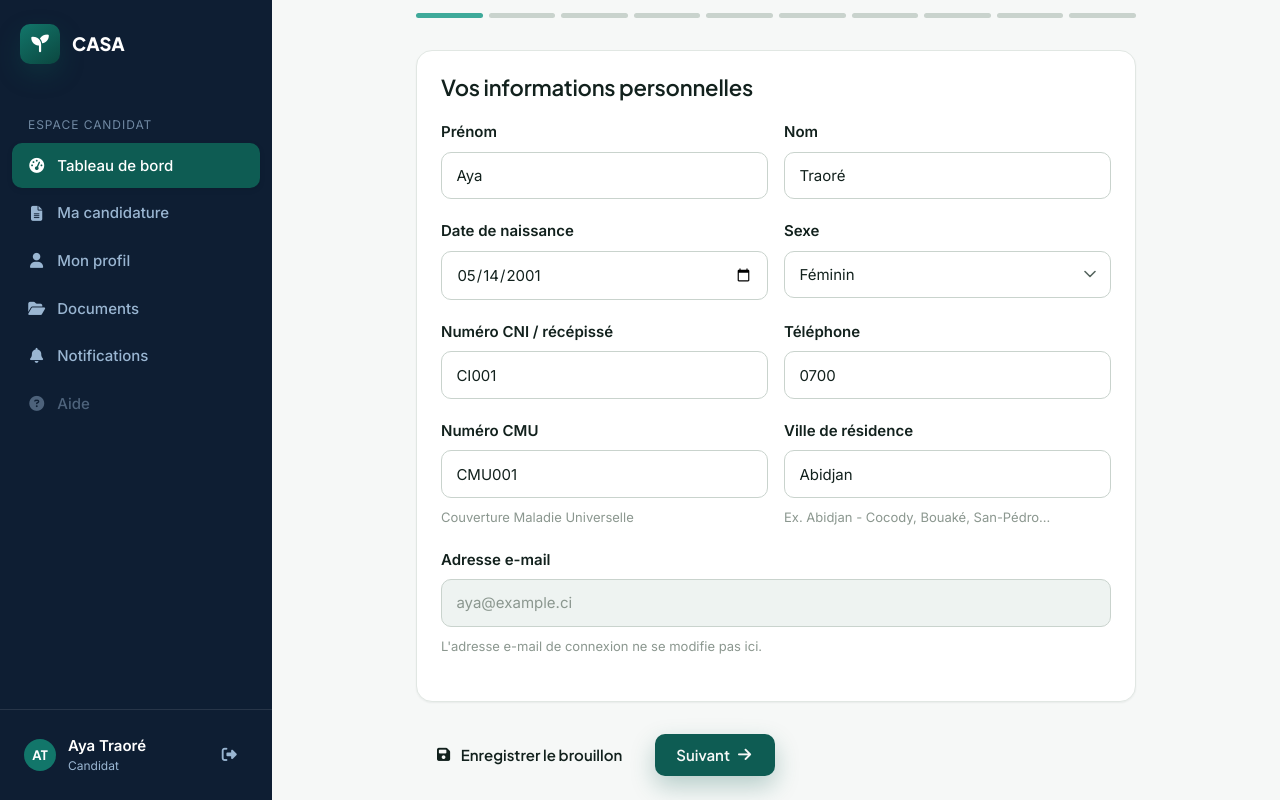
Test case: CandidatureWizard › reprise : une candidature brouillon existante est ré-hydratée
(page scrolled)
Check: the heading "Vos informations personnelles" is shown, box [441,73,753,101]
Click the button "Suivant": (715, 755) [655,734,775,776]
(page scrolled)
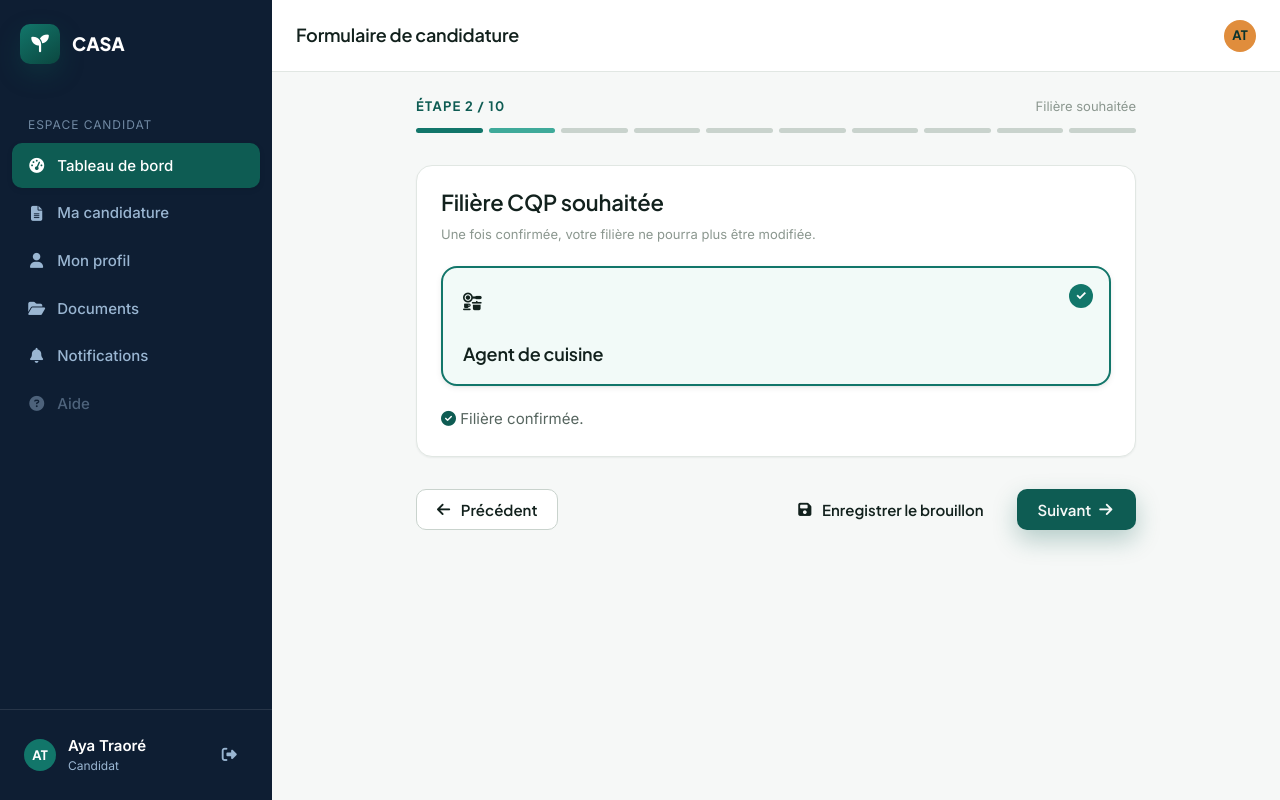
Check: the text "Étape 2 / 10" is shown, box [416,96,505,116]
Click the button "Suivant": (1076, 510) [1017,489,1136,530]
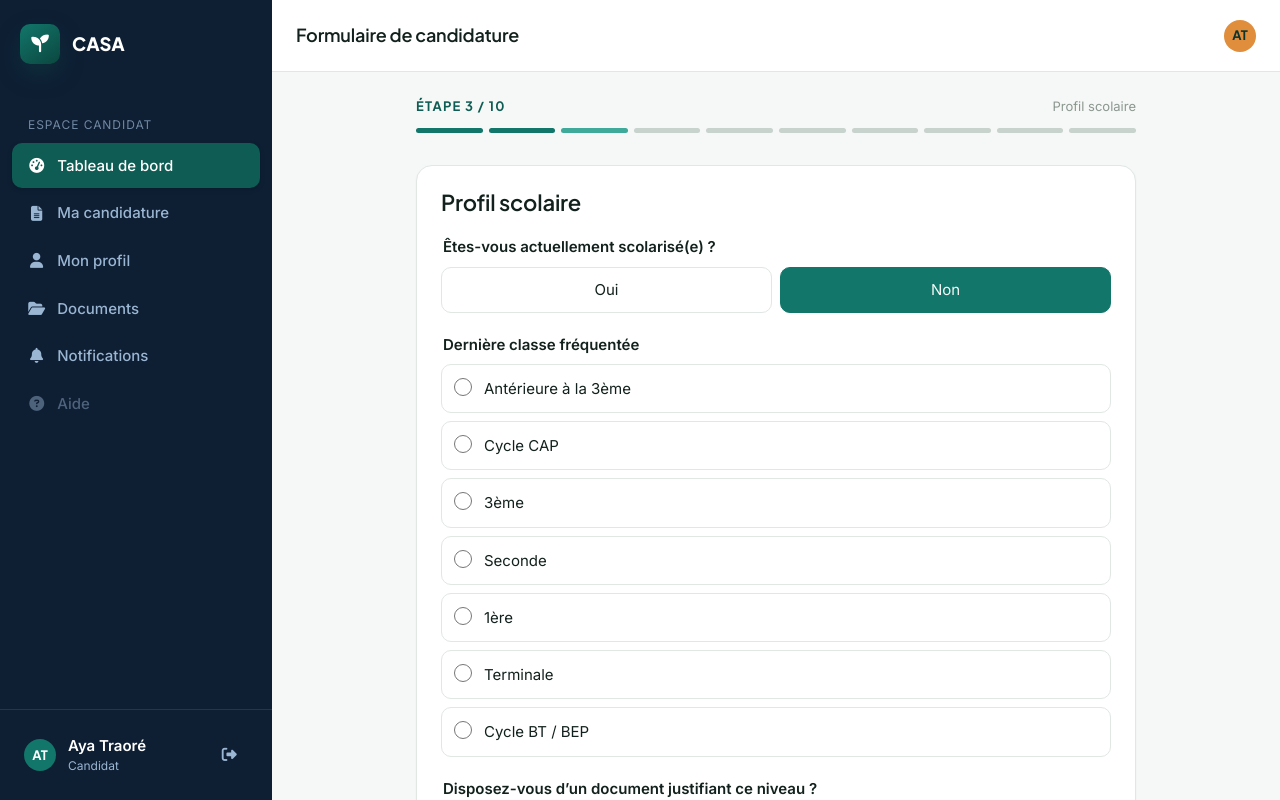
Check: the text "Étape 3 / 10" is shown, box [416,96,506,116]
Check: the radio button labelled "Non" is checked, box [780,267,1111,313]
